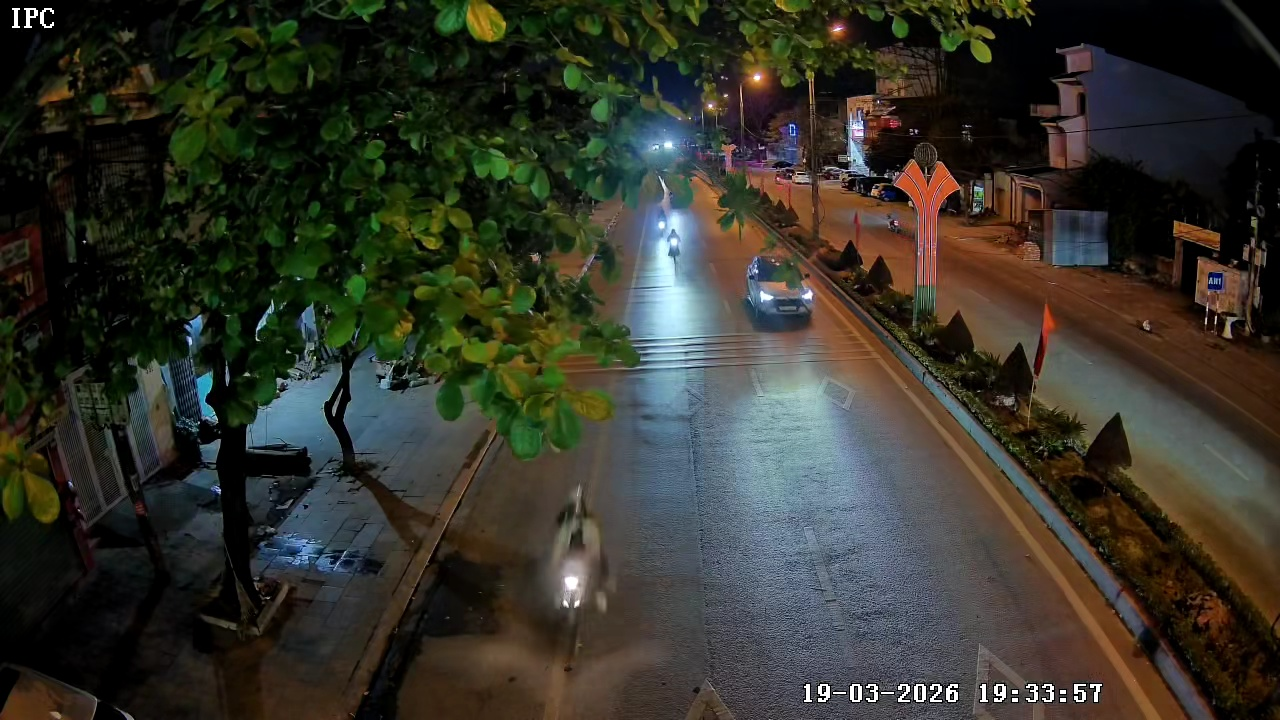car: (742, 249, 817, 326)
motorbike: (533, 480, 632, 668), (665, 218, 683, 261)
